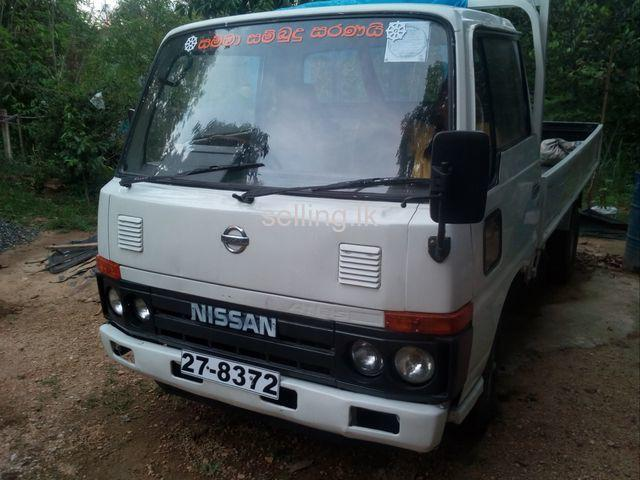truck: (97, 3, 605, 452)
